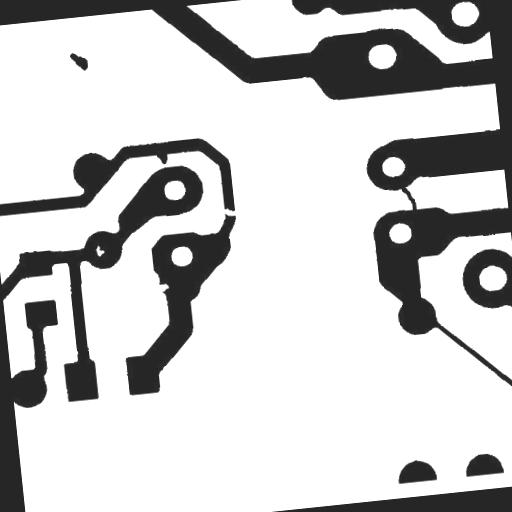copper: (61, 43, 96, 80)
mousebite: (146, 275, 178, 300)
open: (212, 198, 246, 224)
pin-hole: (86, 237, 112, 265)
short: (393, 178, 425, 220)
spur: (148, 144, 176, 174)
